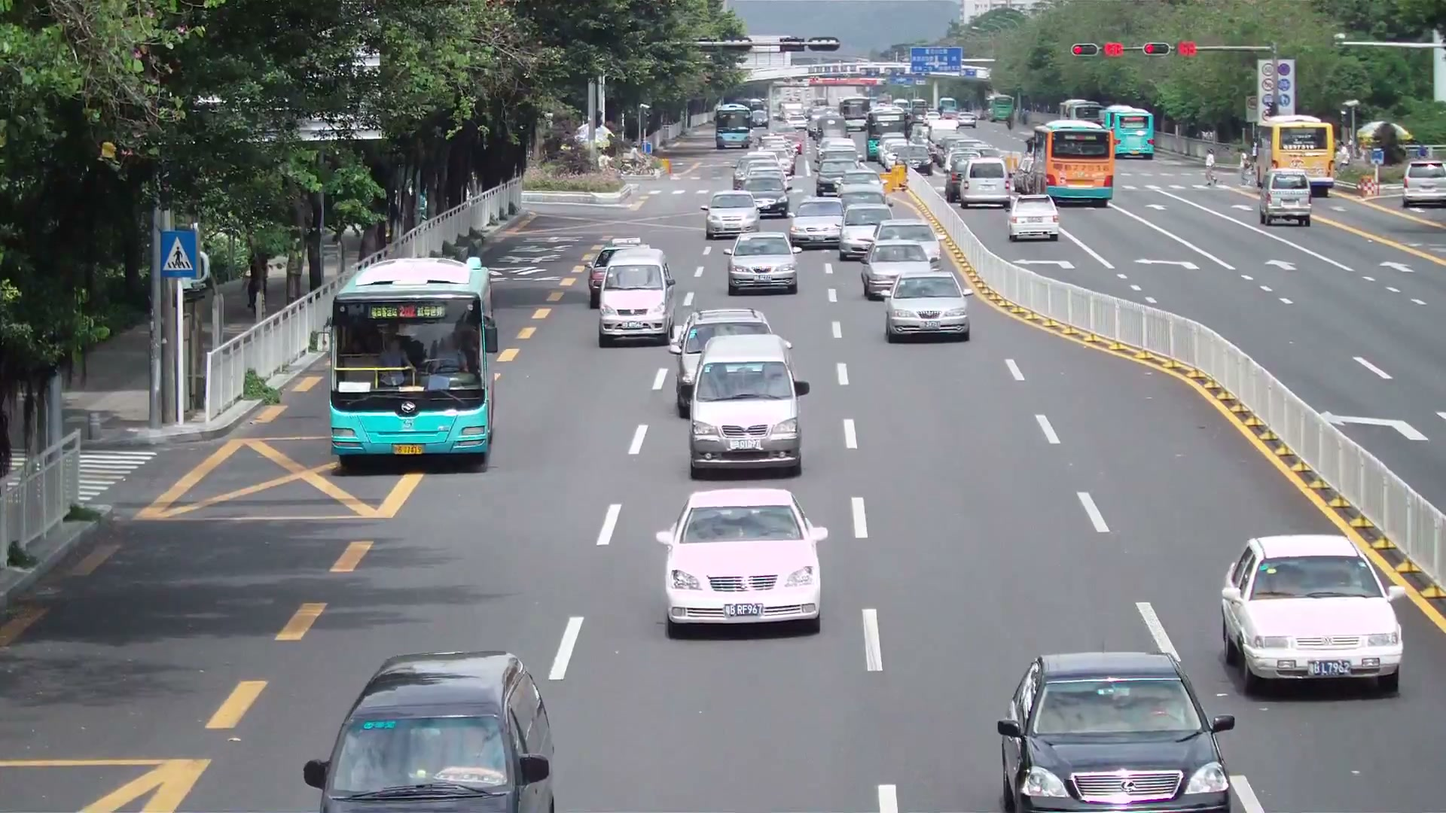bus: (327, 254, 496, 468), (1039, 119, 1116, 207), (1262, 114, 1337, 195), (1100, 105, 1155, 159)
car: (304, 650, 557, 812), (997, 652, 1236, 811), (1218, 534, 1405, 694), (657, 485, 828, 633), (687, 334, 808, 479), (670, 307, 774, 418), (596, 248, 675, 345), (858, 220, 949, 301), (884, 272, 971, 343), (725, 232, 800, 295), (788, 196, 846, 250), (704, 190, 761, 239), (1007, 193, 1060, 242), (1400, 156, 1445, 208)
pedestrian: (374, 321, 417, 367)
truck: (1261, 115, 1336, 193), (1261, 168, 1312, 226)
